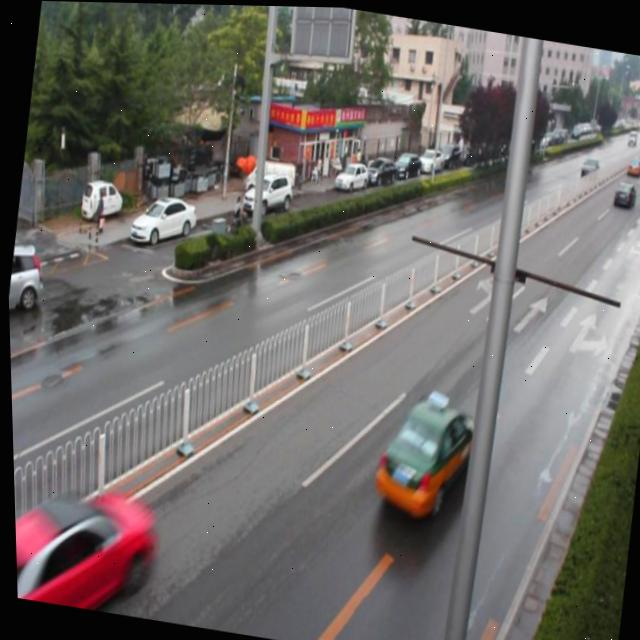car: (11, 473, 159, 607), (367, 380, 485, 523)
